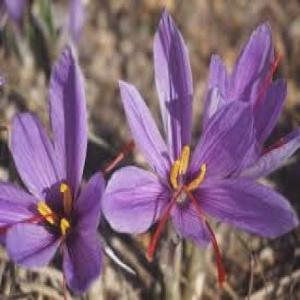Saffron: (106, 10, 293, 248), (0, 45, 106, 286)
